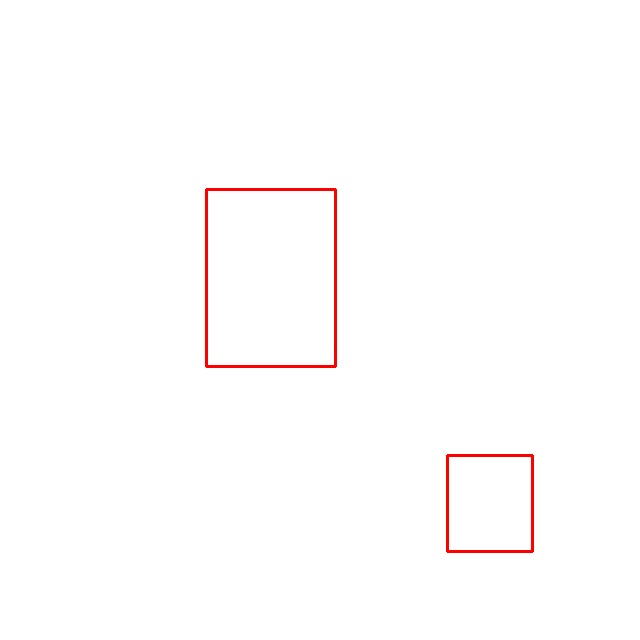weapon: (206, 190, 335, 367), (448, 456, 532, 552)
